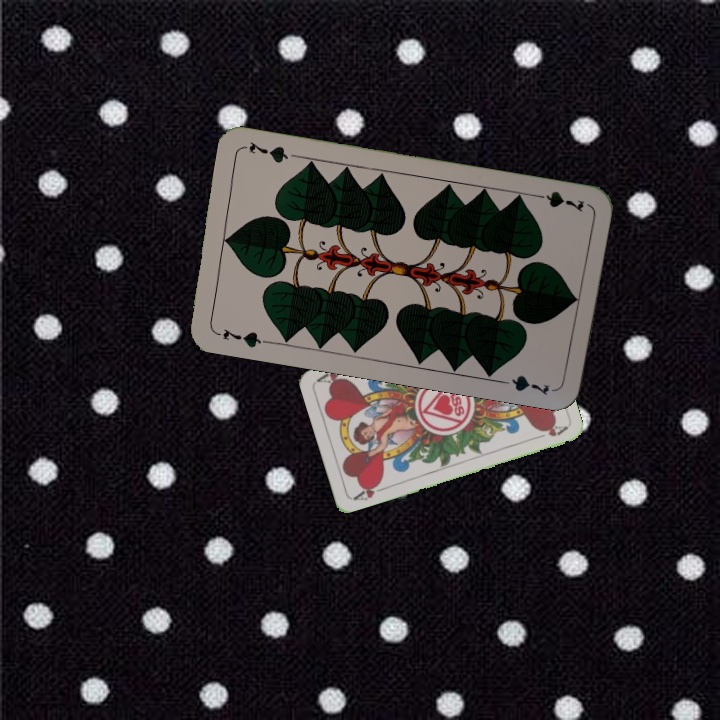G7: (528, 187, 587, 215), (211, 324, 270, 350)
HA: (349, 478, 389, 503)
